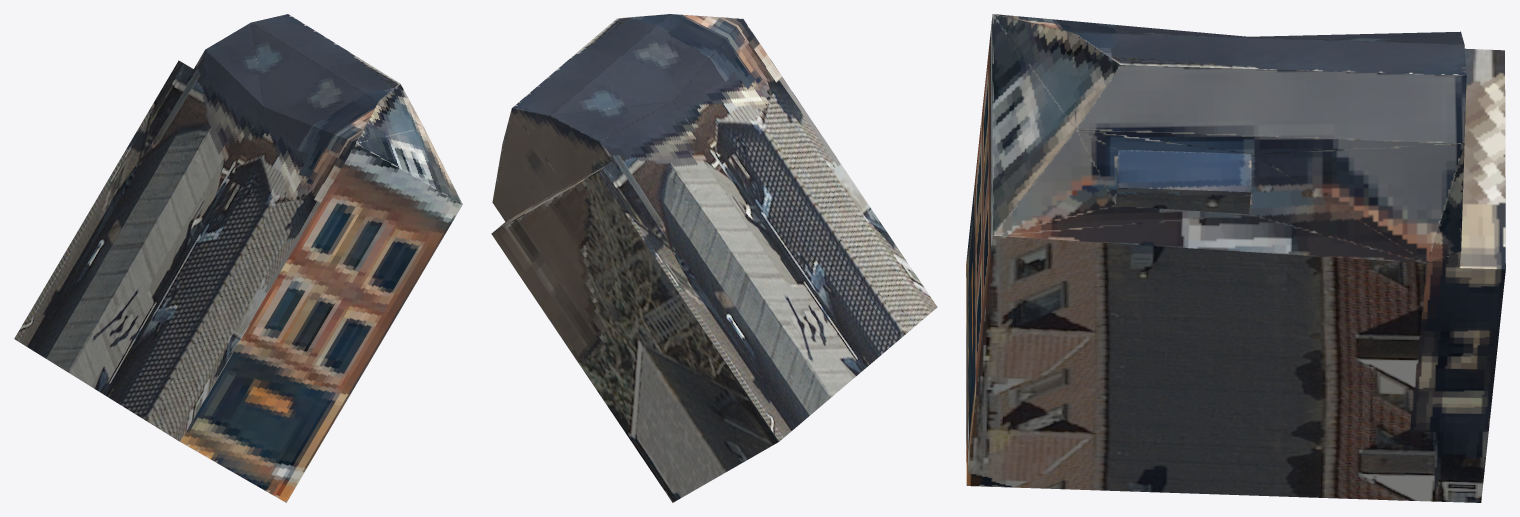
The picture shows the model from 3 angles, left to right: view 1: azimuth 30°, elevation 25°; view 2: azimuth 150°, elevation 25°; view 3: azimuth 270°, elevation 25°; orthographic projection. The views are drawn at different scales.
Visible parts, largest first — view 1: BAG_0599100000688746 (×3); view 2: BAG_0599100000688746 (×4); view 3: BAG_0599100000688746 (×6).
Boxes of the visible parts, x1=… form: BAG_0599100000688746 (×3): x1=14, y1=14, x2=462, y2=502; BAG_0599100000688746 (×4): x1=491, y1=14, x2=937, y2=502; BAG_0599100000688746 (×6): x1=966, y1=14, x2=1505, y2=502.
Size of the model in its own units: 11.81 by 13.46 by 11.5.
Materials: 1 (1 with a texture image).
